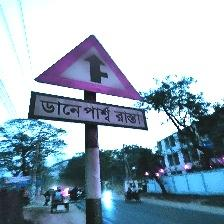Side-road-right: (30, 34, 147, 129)
